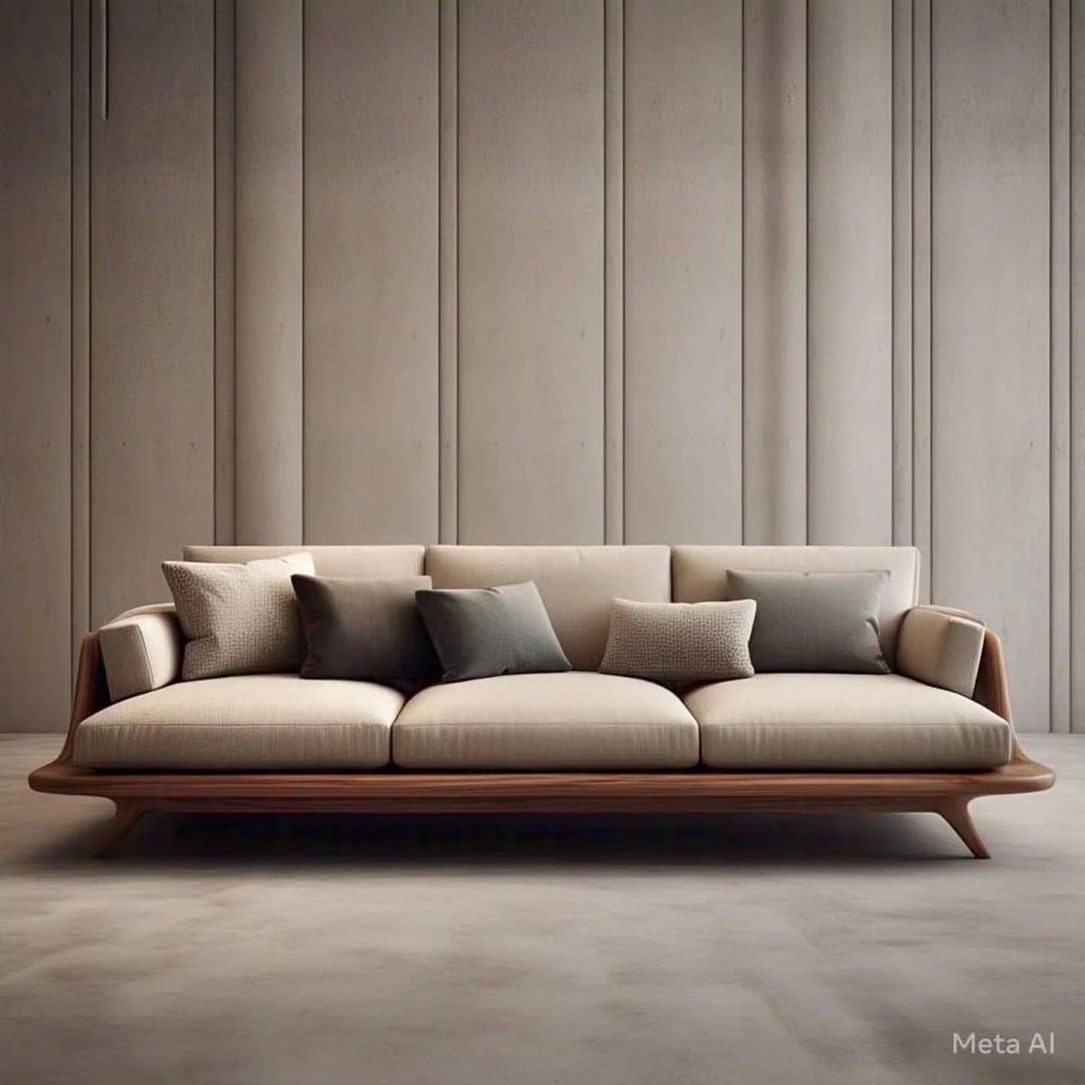3seatersofa: (29, 543, 1052, 859)
backrest: (185, 544, 918, 670)
base: (29, 759, 1049, 813)
leftarmrest: (897, 606, 1012, 728)
leg: (937, 798, 989, 858), (94, 800, 146, 857)
pillow: (163, 554, 314, 679), (728, 571, 889, 672), (292, 576, 436, 684), (416, 582, 571, 681), (599, 599, 756, 684)
rightarmrest: (59, 604, 184, 760)
seat: (74, 671, 1014, 771)
